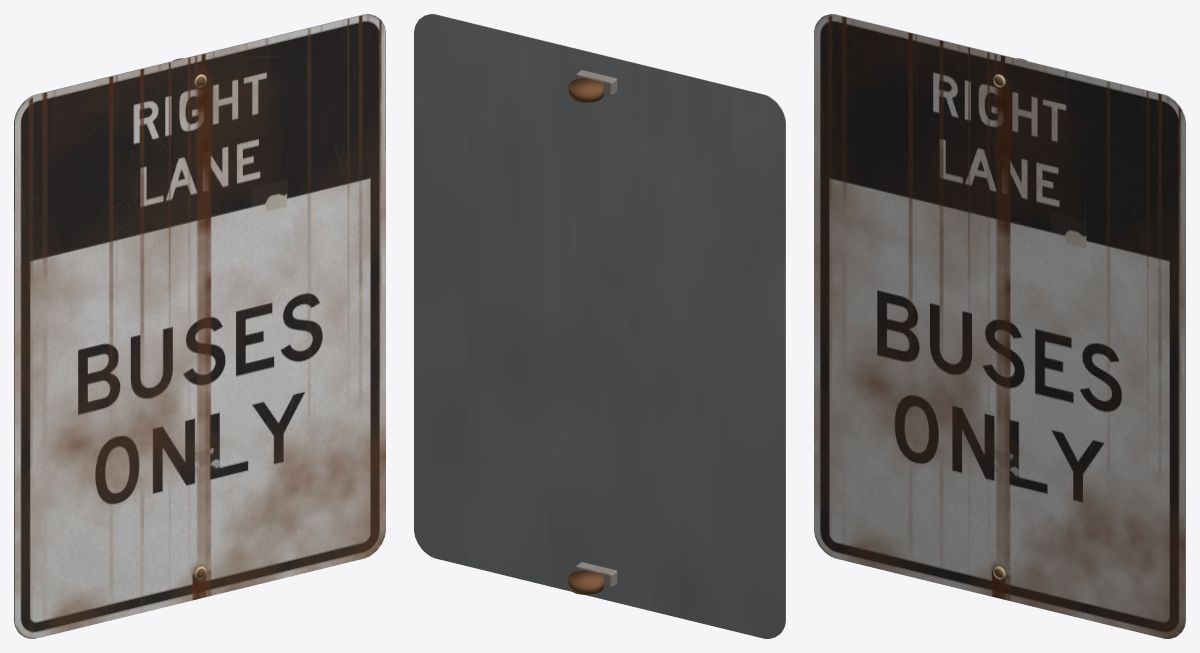
The model's file is transitLane-v1-rusty.glb.
The picture shows the model from 3 angles, left to right: view 1: azimuth 30°, elevation 25°; view 2: azimuth 150°, elevation 25°; view 3: azimuth 330°, elevation 25°; orthographic projection.
Visible parts, largest first — view 1: transitLane-v1-rusty; view 2: transitLane-v1-rusty; view 3: transitLane-v1-rusty.
Part boxes in pixels (left/top/right/bottom): transitLane-v1-rusty: left=14, top=14, right=385, bottom=638; transitLane-v1-rusty: left=414, top=14, right=785, bottom=638; transitLane-v1-rusty: left=814, top=14, right=1185, bottom=638.
Size of the model in its own units: 0.762 by 1.07 by 0.0871.
1 material, 1 textured.
